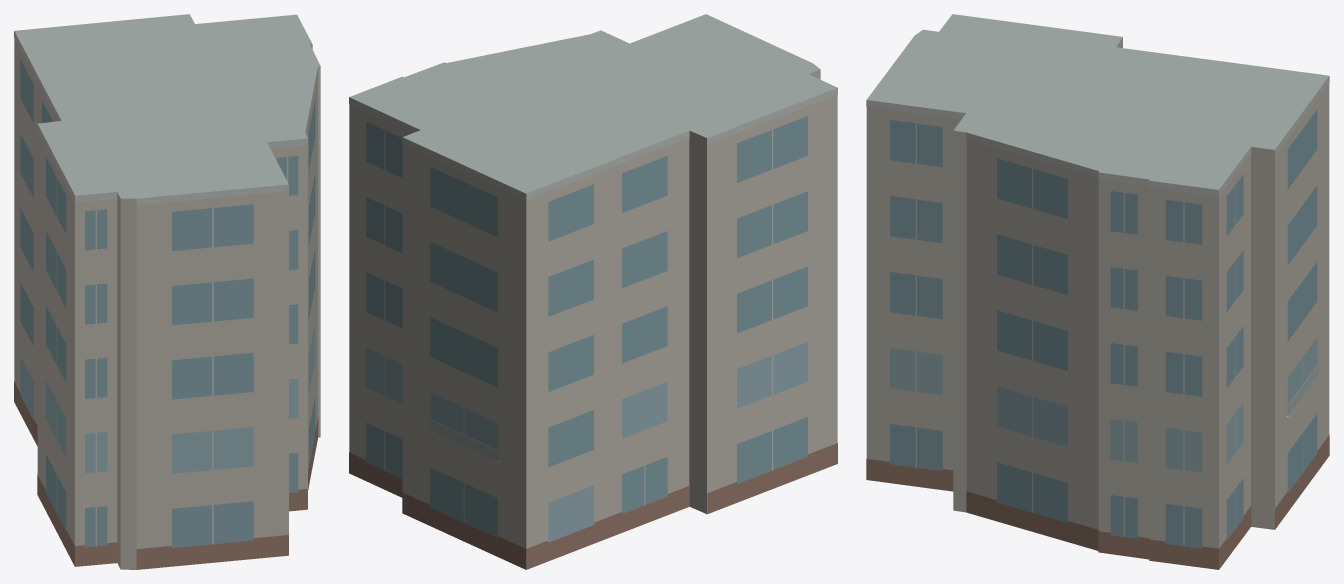
File: survey-upis-32804465.glb
The picture shows the model from 3 angles, left to right: view 1: azimuth 30°, elevation 25°; view 2: azimuth 150°, elevation 25°; view 3: azimuth 270°, elevation 25°; orthographic projection. The views are drawn at different scales.
Parts seen in each view (by area): view 1: survey-upis-32804465.tmp; view 2: survey-upis-32804465.tmp; view 3: survey-upis-32804465.tmp.
Boxes of the visible parts, box(x1,y1,x2,y2) form: survey-upis-32804465.tmp: box(14, 14, 320, 569); survey-upis-32804465.tmp: box(349, 14, 837, 569); survey-upis-32804465.tmp: box(866, 14, 1329, 569).
Size of the model in its own units: 13.31 by 13.4 by 14.81.
